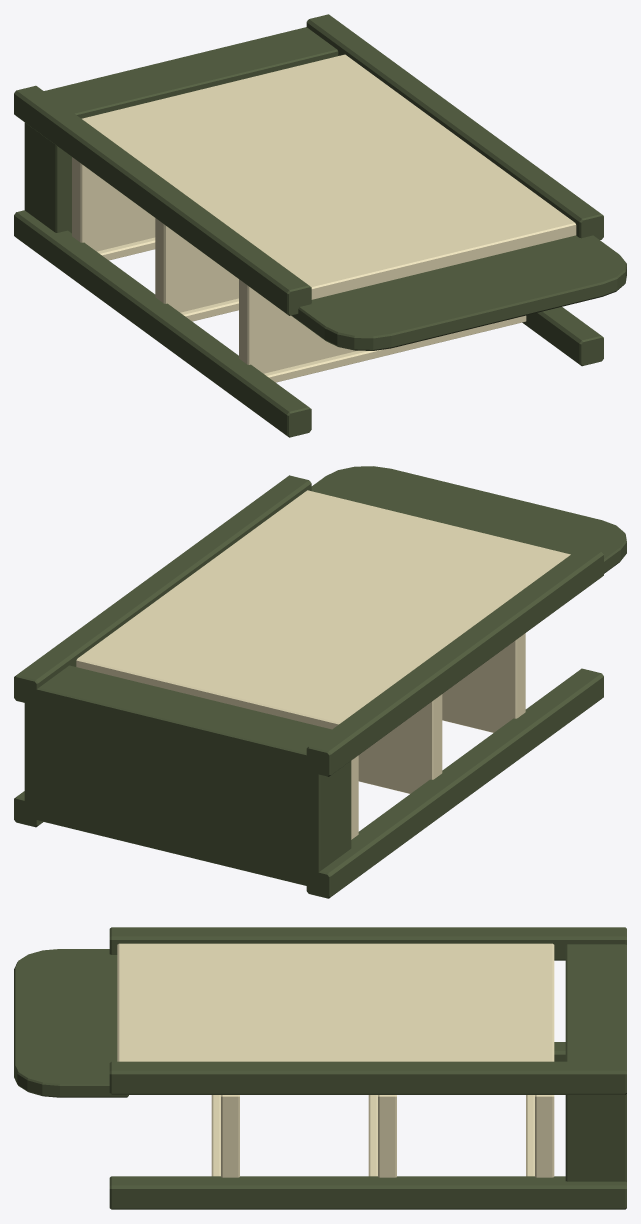
File: fixture_16_baby_care_shelf.glb
3 renders of one model, top to bottom at view 1: azimuth 30°, elevation 25°; view 2: azimuth 150°, elevation 25°; view 3: azimuth 270°, elevation 25°, orthographic. The views are drawn at different scales.
Parts seen in each view (by area): view 1: fixture_16_baby_care_shelf; view 2: fixture_16_baby_care_shelf; view 3: fixture_16_baby_care_shelf.
Boxes of the visible parts, box(x1,y1,x2,y2) form: fixture_16_baby_care_shelf: box(14, 14, 626, 437); fixture_16_baby_care_shelf: box(14, 466, 626, 898); fixture_16_baby_care_shelf: box(14, 927, 626, 1209).
Size of what is drawn, in the model's own units: 0.9 by 0.4 by 1.6.
